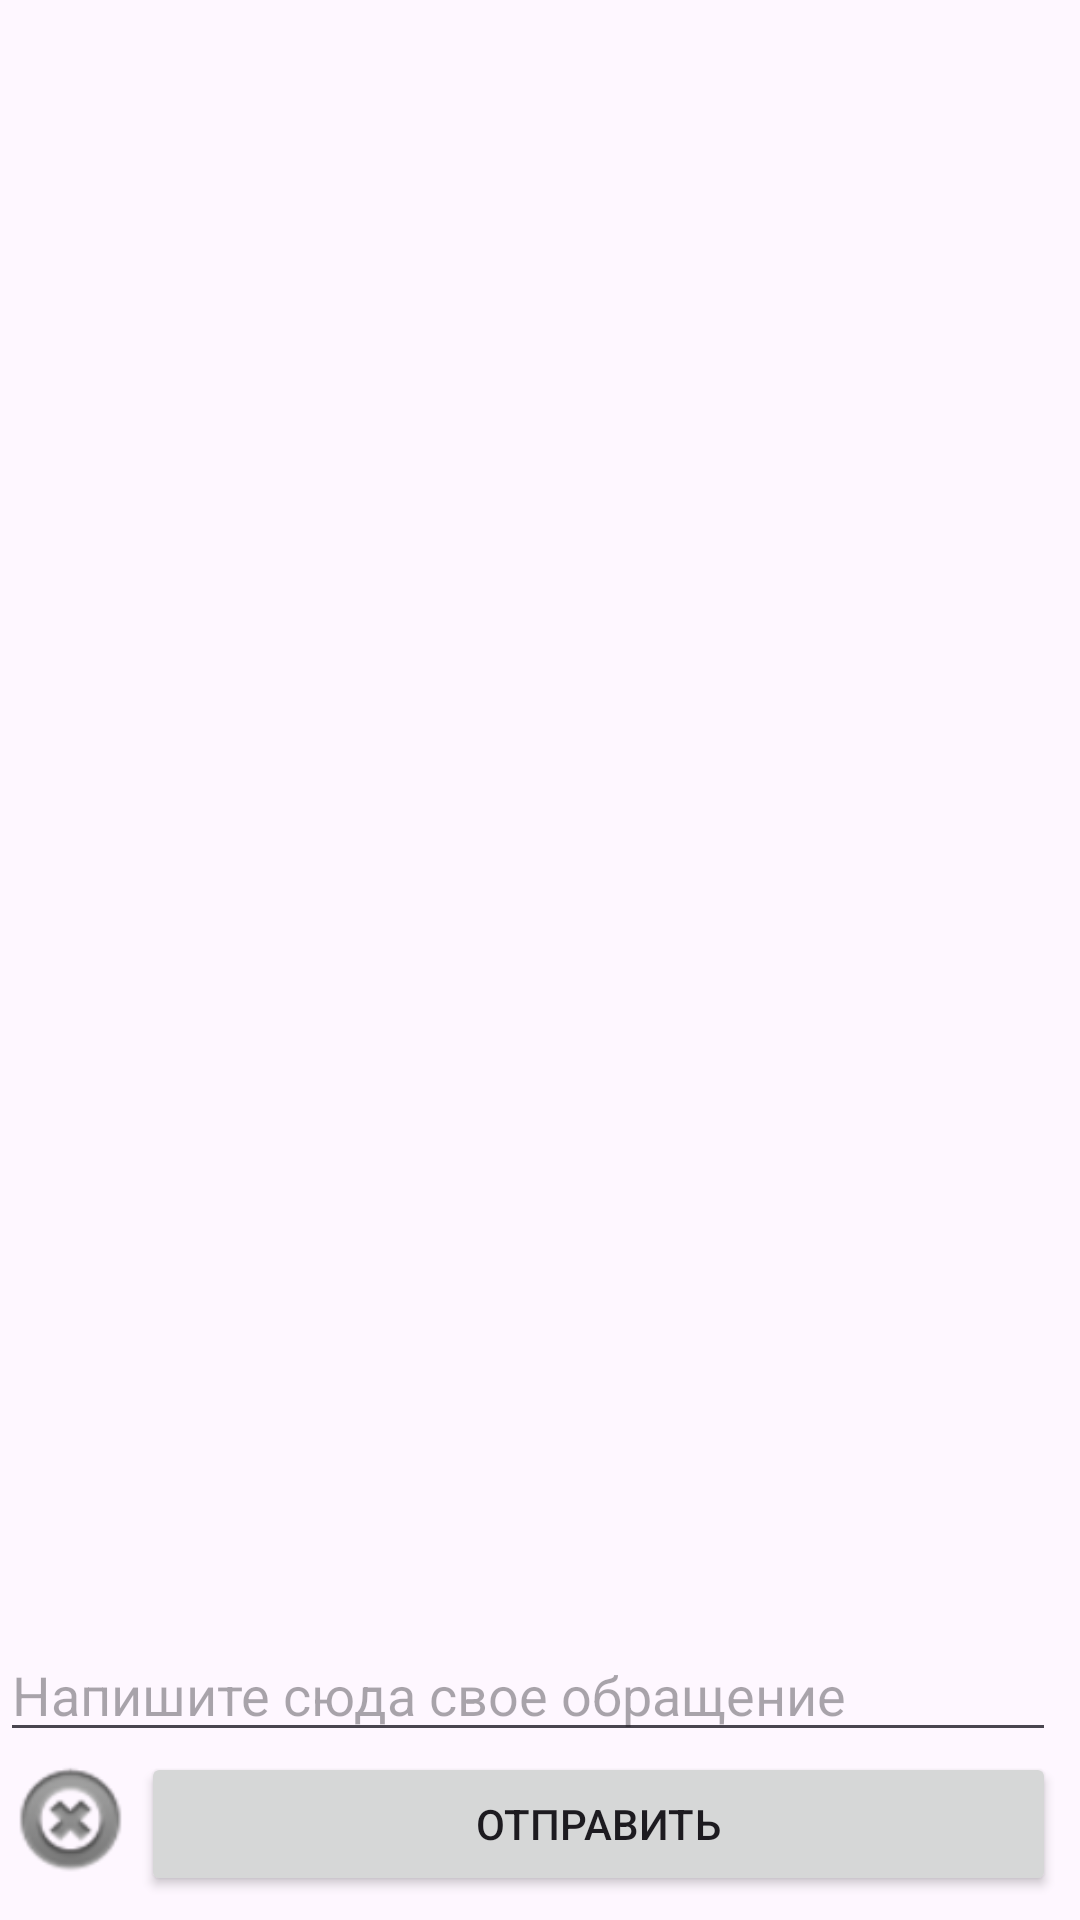

Point at icon controls on the screen. Image size 1080×1920, points as (x=x, y=y).
notification clear all: (x=70, y=1819)
